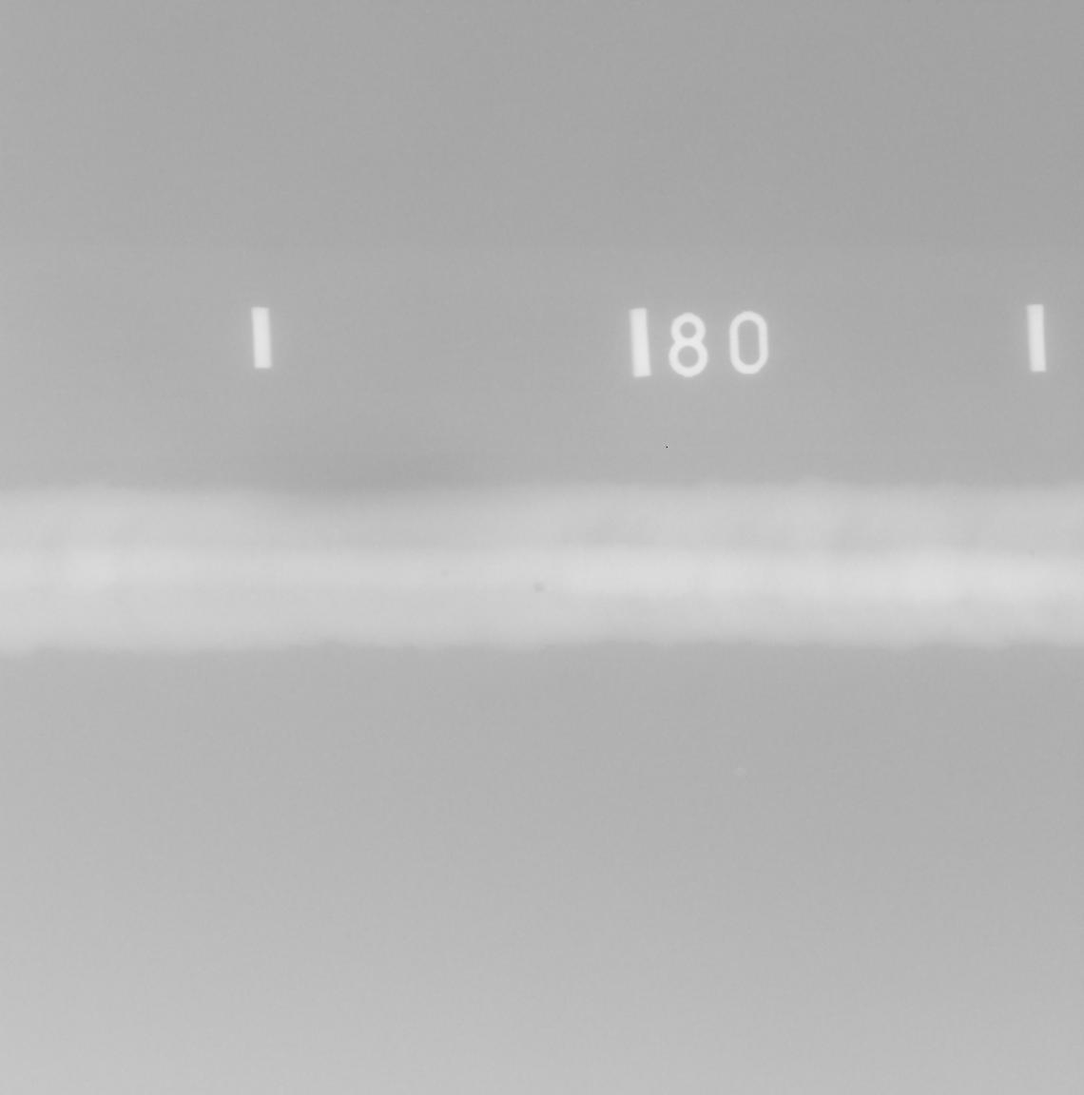Inclusion: (250, 589, 257, 596)
Pore/Porosity: (531, 581, 546, 594), (440, 568, 449, 579), (1029, 550, 1035, 558)
